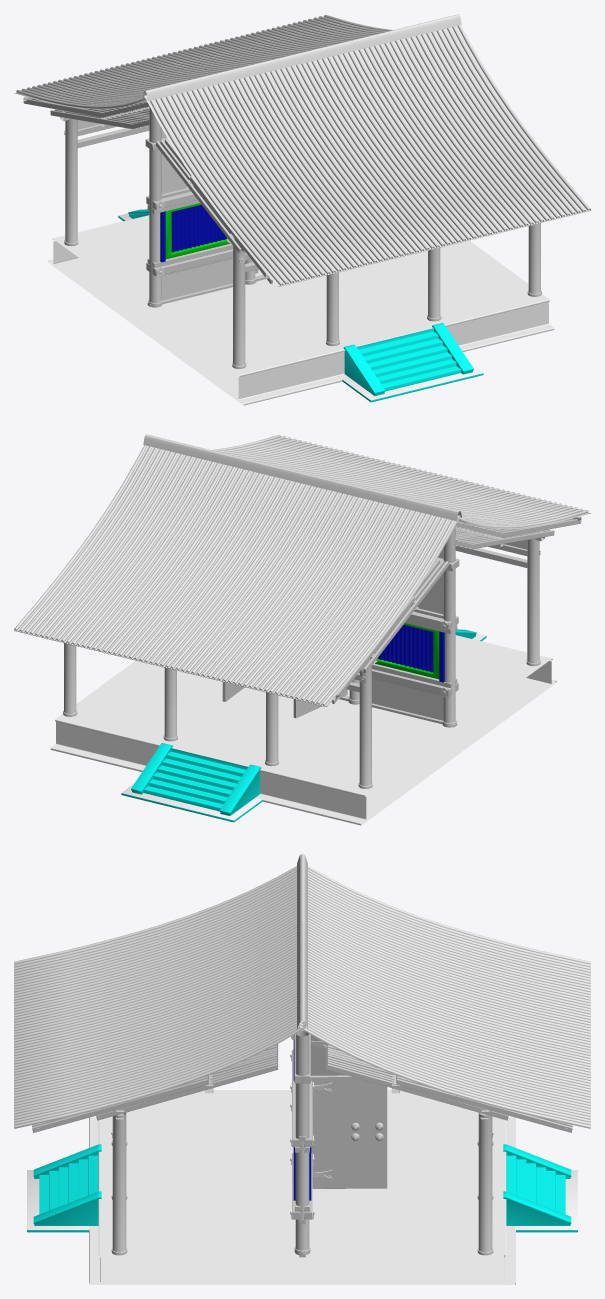
File: Wall Big Loop Window Door.fbx
The picture shows the model from 3 angles, top to bottom: view 1: azimuth 30°, elevation 25°; view 2: azimuth 150°, elevation 25°; view 3: azimuth 270°, elevation 25°; orthographic projection. The views are drawn at different scales.
Visible parts, largest first — view 1: S_Heiankyo_Building_Roof_Long.005, S_Heiankyo_Building_Foundation_Loop.024, S_Heiankyo_Building_StairSmall.016, S_Heiankyo_Building_UnderRoof_Long.005, S_Heiankyo_Building_Pillar_2.048, S_Heiankyo_Building_Window_Long.006, S_Heiankyo_Building_WallClosed.085, S_Heiankyo_Building_Pillar_2.040, S_Heiankyo_Building_Pillar_2.045, S_Heiankyo_Building_Pillar_2.047, S_Heiankyo_Building_Pillar_2.046, S_Heiankyo_Building_Bar_Big.1054 (+2 smaller); view 2: S_Heiankyo_Building_Roof_Long.005, S_Heiankyo_Building_Foundation_Loop.024, S_Heiankyo_Building_StairSmall.016, S_Heiankyo_Building_UnderRoof_Long.005, S_Heiankyo_Building_Pillar_2.048, S_Heiankyo_Building_Window_Long.006, S_Heiankyo_Building_WallClosed.085, S_Heiankyo_Building_Pillar_2.040, S_Heiankyo_Building_Pillar_2.045, S_Heiankyo_Building_Pillar_2.047, S_Heiankyo_Building_Pillar_2.046, S_Heiankyo_Building_Bar_Big.1054 (+2 smaller); view 3: S_Heiankyo_Building_Roof_Long.005, S_Heiankyo_Building_Foundation_Loop.024, S_Heiankyo_Building_StairSmall.016, S_Heiankyo_Building_GreatGate2.002, S_Heiankyo_Building_UnderRoof_Long.005, S_Heiankyo_Building_Pillar_2.047, S_Heiankyo_Building_Pillar_2.042, S_Heiankyo_Building_GreatGate2.001, S_Heiankyo_Building_Bar_Big.1051.
Part boxes in pixels (box(x1,y1,x2,y2)): S_Heiankyo_Building_Roof_Long.005: box(14, 14, 590, 286); S_Heiankyo_Building_Foundation_Loop.024: box(48, 215, 554, 405); S_Heiankyo_Building_StairSmall.016: box(118, 208, 483, 402); S_Heiankyo_Building_UnderRoof_Long.005: box(23, 96, 272, 283); S_Heiankyo_Building_Pillar_2.048: box(64, 118, 246, 368); S_Heiankyo_Building_Window_Long.006: box(160, 203, 229, 262); S_Heiankyo_Building_WallClosed.085: box(161, 128, 232, 300); S_Heiankyo_Building_Pillar_2.040: box(148, 106, 162, 307); S_Heiankyo_Building_Pillar_2.045: box(427, 247, 441, 321); S_Heiankyo_Building_Pillar_2.047: box(527, 223, 541, 296); S_Heiankyo_Building_Pillar_2.046: box(326, 272, 339, 346); S_Heiankyo_Building_Bar_Big.1054: box(146, 249, 232, 276); S_Heiankyo_Building_Roof_Long.005: box(14, 434, 590, 706); S_Heiankyo_Building_Foundation_Loop.024: box(50, 635, 556, 825); S_Heiankyo_Building_StairSmall.016: box(121, 628, 486, 822); S_Heiankyo_Building_UnderRoof_Long.005: box(332, 516, 581, 703); S_Heiankyo_Building_Pillar_2.048: box(358, 538, 540, 788); S_Heiankyo_Building_Window_Long.006: box(375, 623, 444, 682); S_Heiankyo_Building_WallClosed.085: box(372, 548, 443, 720); S_Heiankyo_Building_Pillar_2.040: box(442, 526, 456, 727); S_Heiankyo_Building_Pillar_2.045: box(163, 667, 177, 741); S_Heiankyo_Building_Pillar_2.047: box(63, 643, 77, 716); S_Heiankyo_Building_Pillar_2.046: box(265, 692, 278, 766); S_Heiankyo_Building_Bar_Big.1054: box(372, 669, 458, 696); S_Heiankyo_Building_Roof_Long.005: box(14, 854, 590, 1128); S_Heiankyo_Building_Foundation_Loop.024: box(89, 1090, 515, 1284); S_Heiankyo_Building_StairSmall.016: box(27, 1144, 577, 1232); S_Heiankyo_Building_GreatGate2.002: box(310, 1075, 387, 1188); S_Heiankyo_Building_UnderRoof_Long.005: box(32, 1044, 572, 1132); S_Heiankyo_Building_Pillar_2.047: box(111, 1112, 493, 1255); S_Heiankyo_Building_Pillar_2.042: box(294, 1030, 310, 1255); S_Heiankyo_Building_GreatGate2.001: box(310, 1035, 345, 1075); S_Heiankyo_Building_Bar_Big.1051: box(292, 1080, 312, 1147).
Size of the model in its own units: 815 by 603 by 1189.
